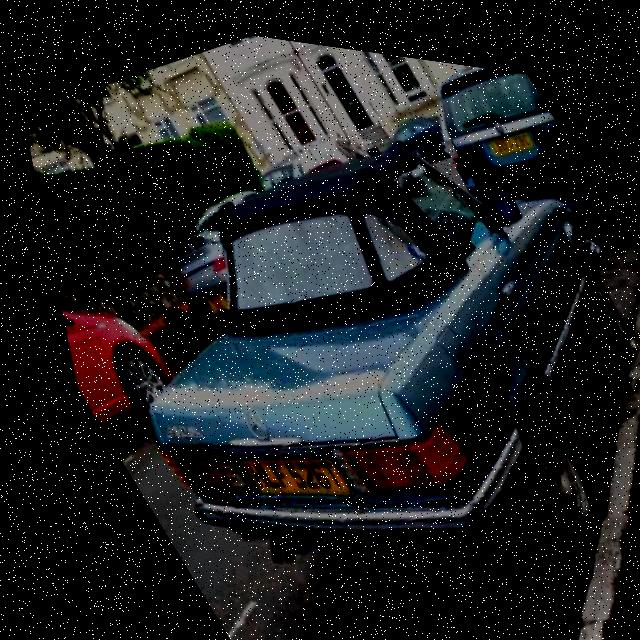license_plate: (216, 416, 350, 534), (480, 108, 537, 150), (188, 280, 224, 315)
